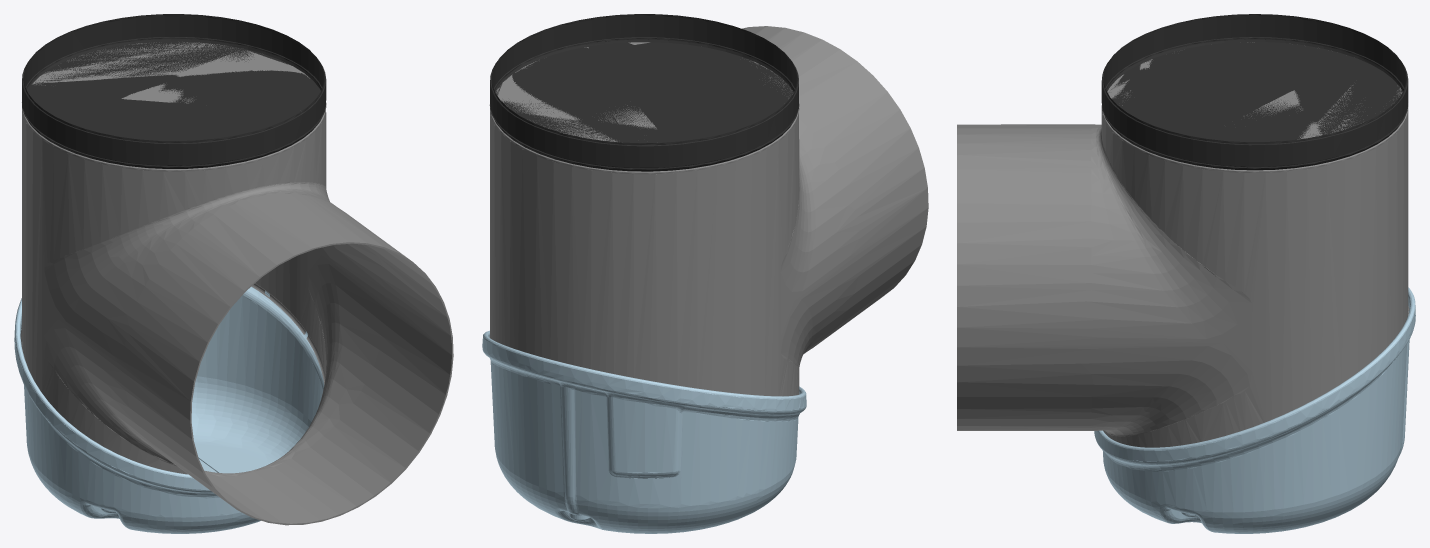
3 renders of one model, left to right at view 1: azimuth 30°, elevation 25°; view 2: azimuth 150°, elevation 25°; view 3: azimuth 270°, elevation 25°, orthographic.
Parts seen in each view (by area): view 1: mesh; view 2: mesh; view 3: mesh.
Part boxes in pixels (x1,y1,x2,y2): mesh: (14,14,453,533); mesh: (482,14,928,533); mesh: (957,14,1415,533).
Size of the model in its own units: 0.0787 by 0.1099 by 0.1122.
